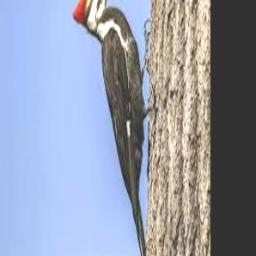Woodpecker: (72, 0, 151, 256)
